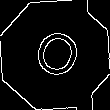O_S: (26, 24, 84, 86)
